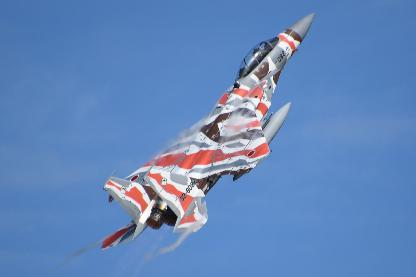F117: (99, 11, 315, 250)
